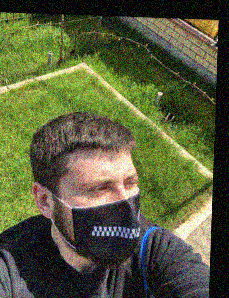with_mask: (65, 163, 141, 268)
